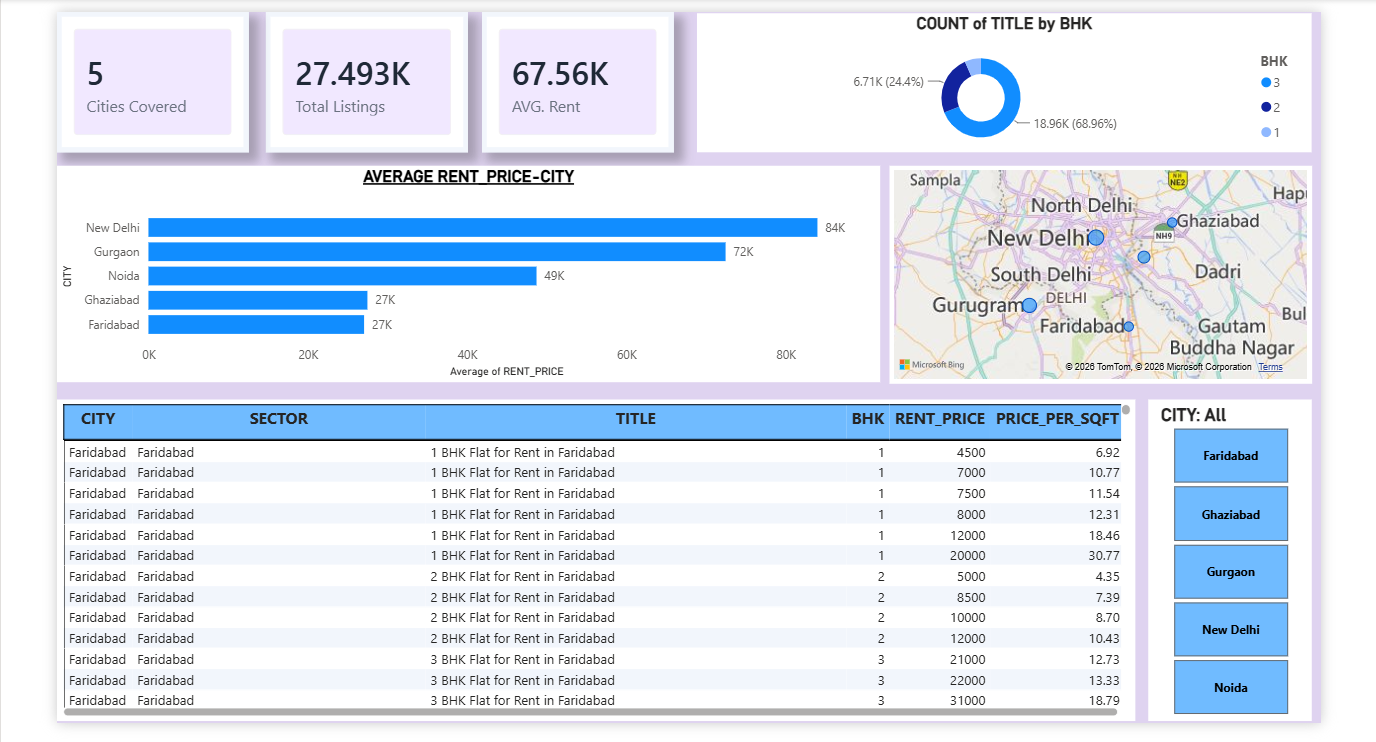

What the dashboard file says about the page in this screenshot:
{"tool":"powerbi","page":{"name":"Page 1","canvas":[1280,720],"ordinal":0},"visuals":[{"type":"cardVisual","fields":{"Data":["CountNonNull(RENTAL_LISTINGS.TITLE)"]},"box":[211.1,0,205.1,142.4],"z":1000},{"type":"cardVisual","fields":{"Data":["Avg(RENTAL_LISTINGS.RENT_PRICE)"]},"box":[430.7,0,194.2,142.4],"z":2000},{"type":"cardVisual","fields":{"Data":["Count(RENTAL_LISTINGS.CITY)"]},"box":[0,0,194.2,142.4],"z":3000},{"type":"clusteredBarChart","title":"AVERAGE RENT_PRICE-CITY","fields":{"Category":["RENTAL_LISTINGS.CITY"],"Y":["Avg(RENTAL_LISTINGS.RENT_PRICE)"]},"box":[0,155.6,833.7,219.6],"z":4000},{"type":"donutChart","title":"COUNT of TITLE by BHK","fields":{"Category":["RENTAL_LISTINGS.BHK"],"Y":["CountNonNull(RENTAL_LISTINGS.TITLE)"]},"box":[647.9,1.2,622.5,141.2],"z":5000},{"type":"tableEx","fields":{"Values":["RENTAL_LISTINGS.CITY","RENTAL_LISTINGS.SECTOR","RENTAL_LISTINGS.TITLE","RENTAL_LISTINGS.BHK","RENTAL_LISTINGS.RENT_PRICE","RENTAL_LISTINGS.PRICE_PER_SQFT"]},"box":[0,392.1,1091.8,325.7],"z":6000},{"type":"slicer","fields":{"Values":["RENTAL_LISTINGS.CITY"]},"box":[1105.1,392.1,165.3,325.7],"z":6001},{"type":"map","fields":{"Category":["RENTAL_LISTINGS.CITY"],"Size":["Avg(RENTAL_LISTINGS.RENT_PRICE)"]},"box":[843.3,155.6,428.3,220.8],"z":6002}]}

Visuals, with their boxes on the page's 1280x720 design canvas (x1, y1, x2, y2). These are canvas units, not pixel positions in the 1376x742 screenshot, which may show the page scaled, cropped or inside an application window:
cardVisual - CountNonNull(RENTAL_LISTINGS.TITLE): {"x1": 211, "y1": 0, "x2": 416, "y2": 142}
cardVisual - Avg(RENTAL_LISTINGS.RENT_PRICE): {"x1": 431, "y1": 0, "x2": 625, "y2": 142}
cardVisual - Count(RENTAL_LISTINGS.CITY): {"x1": 0, "y1": 0, "x2": 194, "y2": 142}
"AVERAGE RENT_PRICE-CITY" clusteredBarChart: {"x1": 0, "y1": 156, "x2": 834, "y2": 375}
"COUNT of TITLE by BHK" donutChart: {"x1": 648, "y1": 1, "x2": 1270, "y2": 142}
tableEx - RENTAL_LISTINGS.CITY x RENTAL_LISTINGS.SECTOR: {"x1": 0, "y1": 392, "x2": 1092, "y2": 718}
slicer - RENTAL_LISTINGS.CITY: {"x1": 1105, "y1": 392, "x2": 1270, "y2": 718}
map - RENTAL_LISTINGS.CITY x Avg(RENTAL_LISTINGS.RENT_PRICE): {"x1": 843, "y1": 156, "x2": 1272, "y2": 376}
